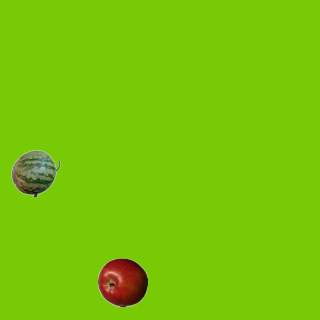Apple Braeburn: (97, 257, 147, 307)
Watermelon: (10, 148, 60, 198)
